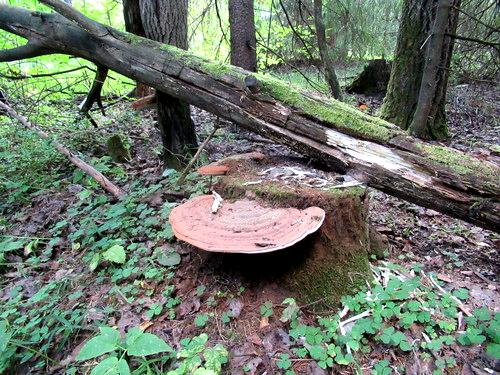Ganoderma - Fruit Body: (161, 196, 329, 258)
